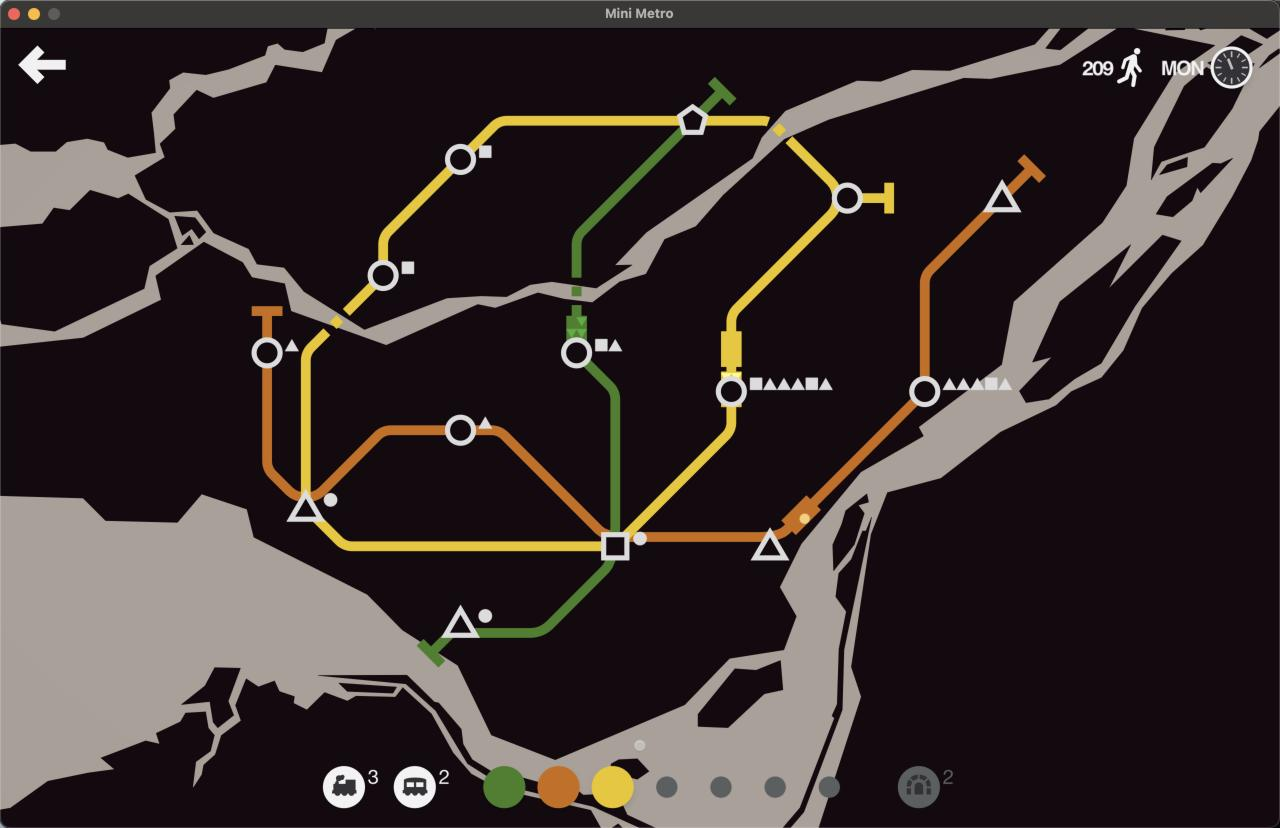CIRCLE: (831, 181, 864, 215), (908, 375, 942, 408), (444, 414, 477, 447), (560, 336, 593, 369), (251, 336, 284, 369), (715, 375, 748, 408), (445, 143, 477, 176), (367, 259, 399, 291)
PENTAGON: (676, 104, 708, 136)
SQUARE: (600, 531, 629, 561)
TRIANGLE: (750, 525, 790, 562), (983, 179, 1022, 214), (442, 604, 481, 639), (287, 489, 324, 523)
